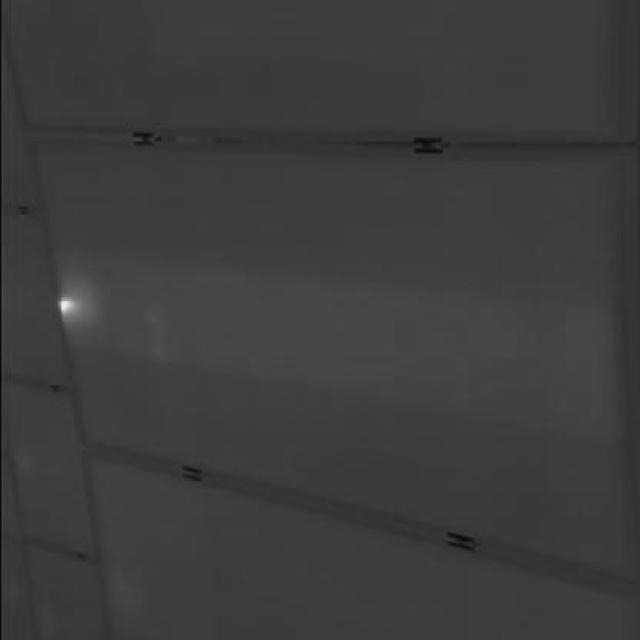hotspot: (52, 278, 80, 324)
